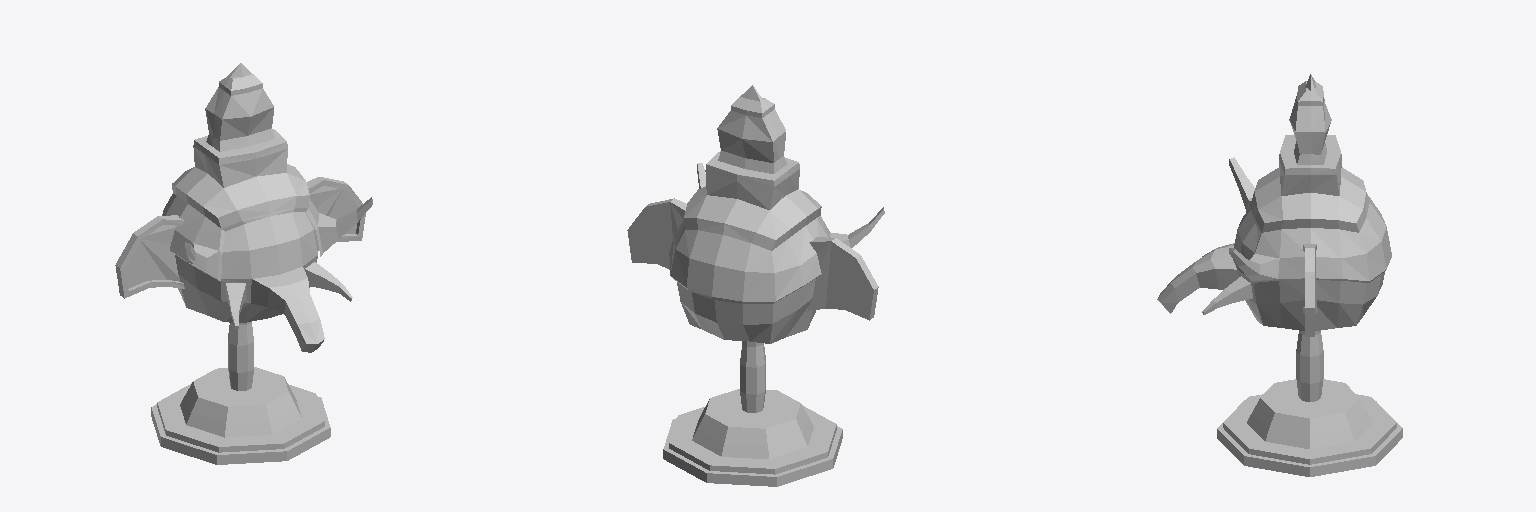
The model's file is Ganesha.obj.
3 renders of one model, left to right at view 1: azimuth 30°, elevation 25°; view 2: azimuth 150°, elevation 25°; view 3: azimuth 270°, elevation 25°, orthographic.
Visible parts, largest first — view 1: Cube.001, Circle, Cube, Cylinder; view 2: Cube.001, Circle, Cylinder, Cube; view 3: Cube.001, Circle, Cube, Cylinder.
Boxes of the visible parts, x1,y1,x2,y2 form: Cube.001: [162, 63, 372, 281]; Circle: [151, 322, 330, 464]; Cube: [175, 212, 352, 352]; Cylinder: [115, 177, 365, 298]; Cube.001: [669, 85, 884, 303]; Circle: [663, 341, 842, 486]; Cylinder: [627, 198, 878, 320]; Cube: [677, 279, 815, 343]; Cube.001: [1229, 74, 1391, 282]; Circle: [1217, 331, 1402, 476]; Cube: [1157, 207, 1384, 330]; Cylinder: [1303, 244, 1317, 336].
Size of the model in its own units: 3.07 by 4.33 by 2.65.